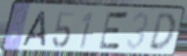1: (79, 11, 95, 50)
3: (125, 11, 152, 53)
5: (51, 10, 77, 50)
A: (20, 10, 47, 48)
D: (147, 12, 176, 53)
E: (96, 9, 130, 53)
